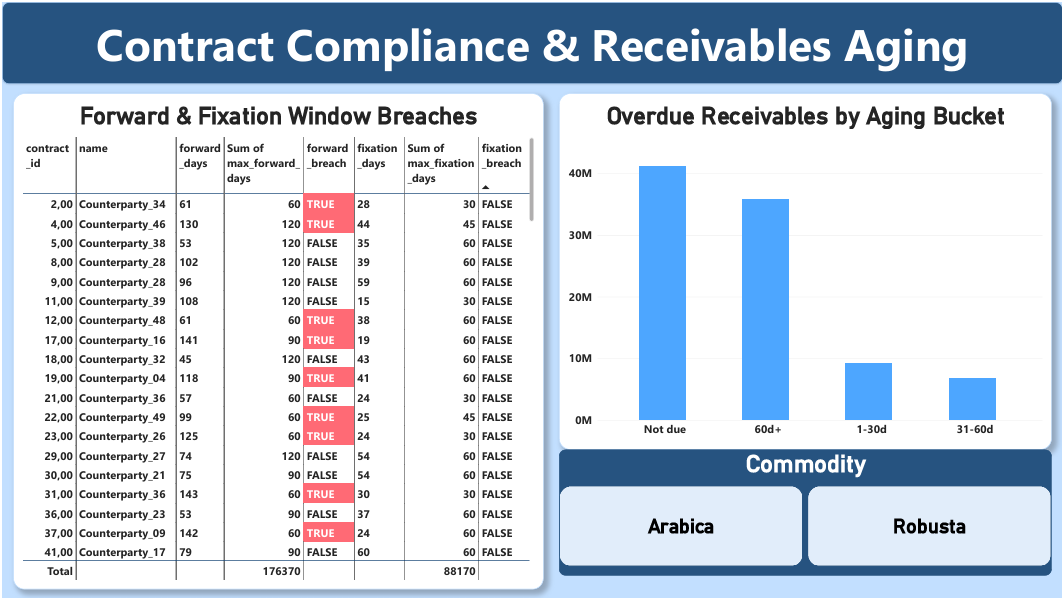

What the dashboard file says about the page in this screenshot:
{"tool":"powerbi","page":{"name":"Contract Compliance & Receivables Aging","canvas":[1920,1080],"ordinal":2},"visuals":[{"type":"textbox","box":[0,0,1920,147.5],"z":0},{"type":"tableEx","title":"Forward & Fixation Window Breaches","fields":{"Values":["window_breaches.contract_id","window_breaches.name","window_breaches.forward_days","Sum(window_breaches.max_forward_days)","window_breaches.forward_breach","window_breaches.fixation_days","Sum(window_breaches.max_fixation_days)","window_breaches.fixation_breach"]},"box":[20,165,960,897.5],"z":2000},{"type":"columnChart","title":"Overdue Receivables by Aging Bucket","fields":{"Category":["aging.aging_bucket"],"Y":["Sum(aging.amount_usd)"]},"box":[1007.5,165,892.5,645],"z":3001},{"type":"advancedSlicerVisual","title":"Commodity","fields":{"Values":["window_breaches.commodity"]},"box":[1007.5,810,892.5,227.5],"z":3002}]}

Visuals, with their boxes in screenshot pixels (x1, y1, x2, y2), scaled from the page's 1920x1080 canvas onto the 1062x598 screenshot:
textbox: [0, 0, 1061, 82]
"Forward & Fixation Window Breaches" tableEx: [11, 91, 542, 588]
"Overdue Receivables by Aging Bucket" columnChart: [557, 91, 1051, 448]
"Commodity" advancedSlicerVisual: [557, 448, 1051, 574]
